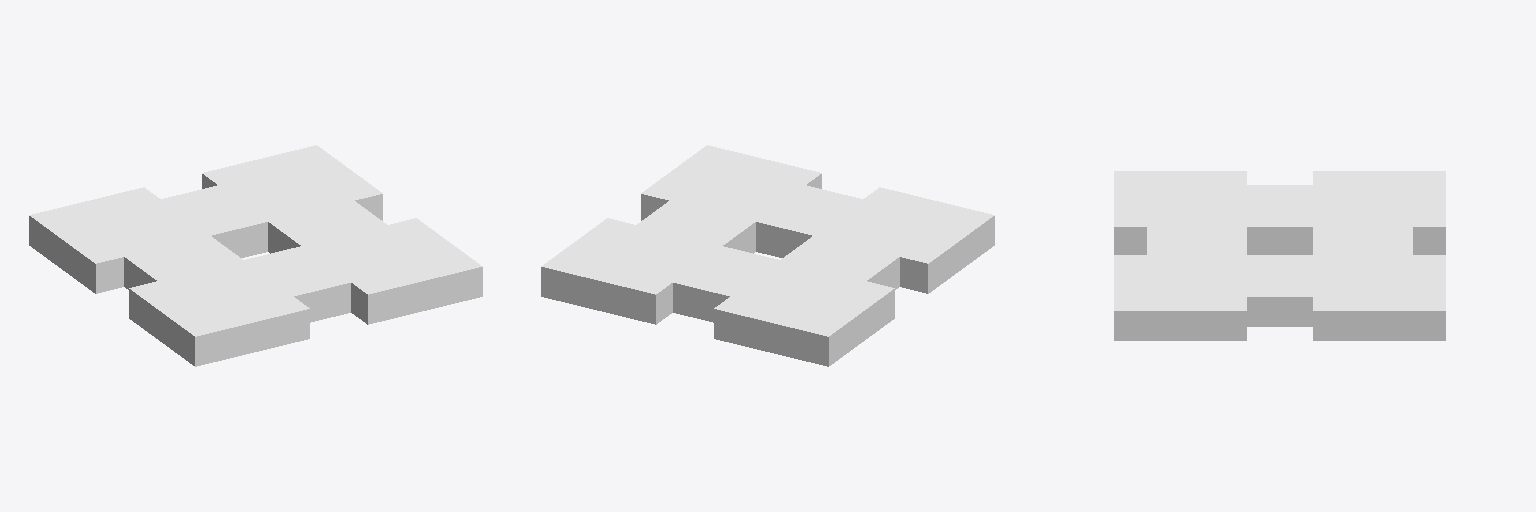
File: SHURIKEN.obj
The picture shows the model from 3 angles: view 1: azimuth 30°, elevation 25°; view 2: azimuth 150°, elevation 25°; view 3: azimuth 270°, elevation 25°; orthographic projection.
Visible parts, largest first — view 1: object 1; view 2: object 1; view 3: object 1.
Part boxes in pixels (left/top/right/bottom): object 1: left=29, top=145, right=482, bottom=366; object 1: left=541, top=145, right=994, bottom=366; object 1: left=1114, top=171, right=1445, bottom=340.
Bounding box in the file's own units: 1 × 0.1 × 1.